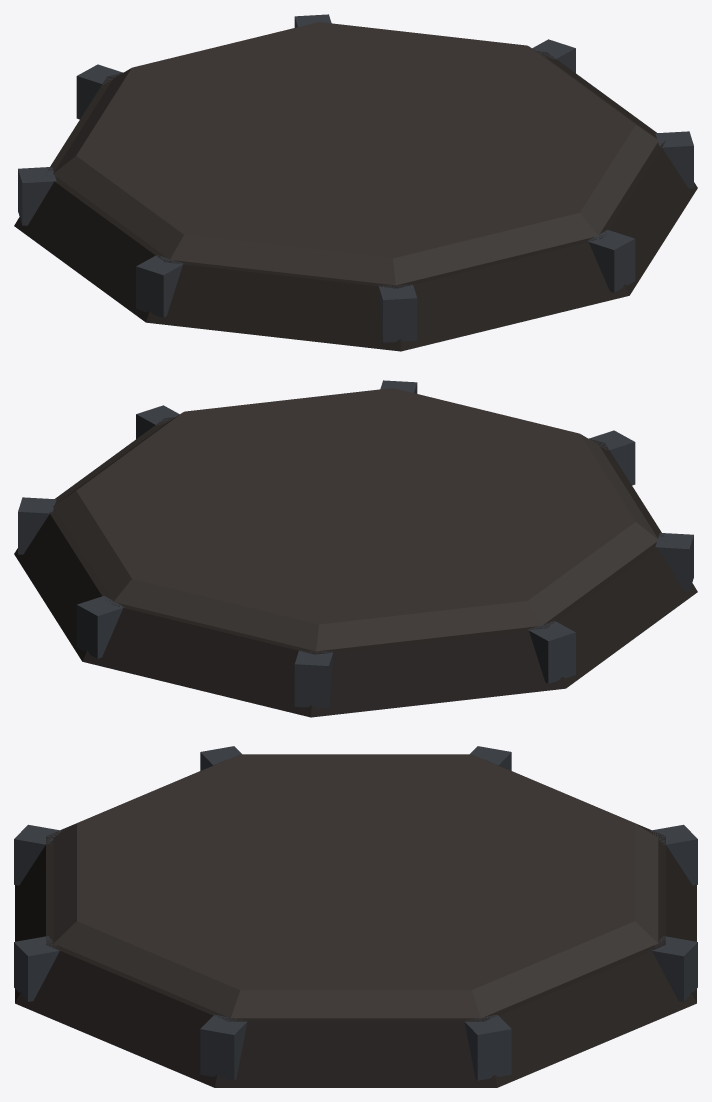
Rendered from dk_ballista_base.glb.
3 views of the same model, one above another, from view 1: azimuth 30°, elevation 25°; view 2: azimuth 150°, elevation 25°; view 3: azimuth 270°, elevation 25° (orthographic). The views are drawn at different scales.
Parts seen in each view (by area): view 1: dk_ballista_base; view 2: dk_ballista_base; view 3: dk_ballista_base.
Boxes of the visible parts, left/top/right/bottom form: dk_ballista_base: left=14, top=14, right=697, bottom=351; dk_ballista_base: left=14, top=380, right=697, bottom=717; dk_ballista_base: left=14, top=746, right=697, bottom=1087.
Bounding box in the file's own units: 4.08 × 0.47 × 4.08.
1 material, 1 textured.
